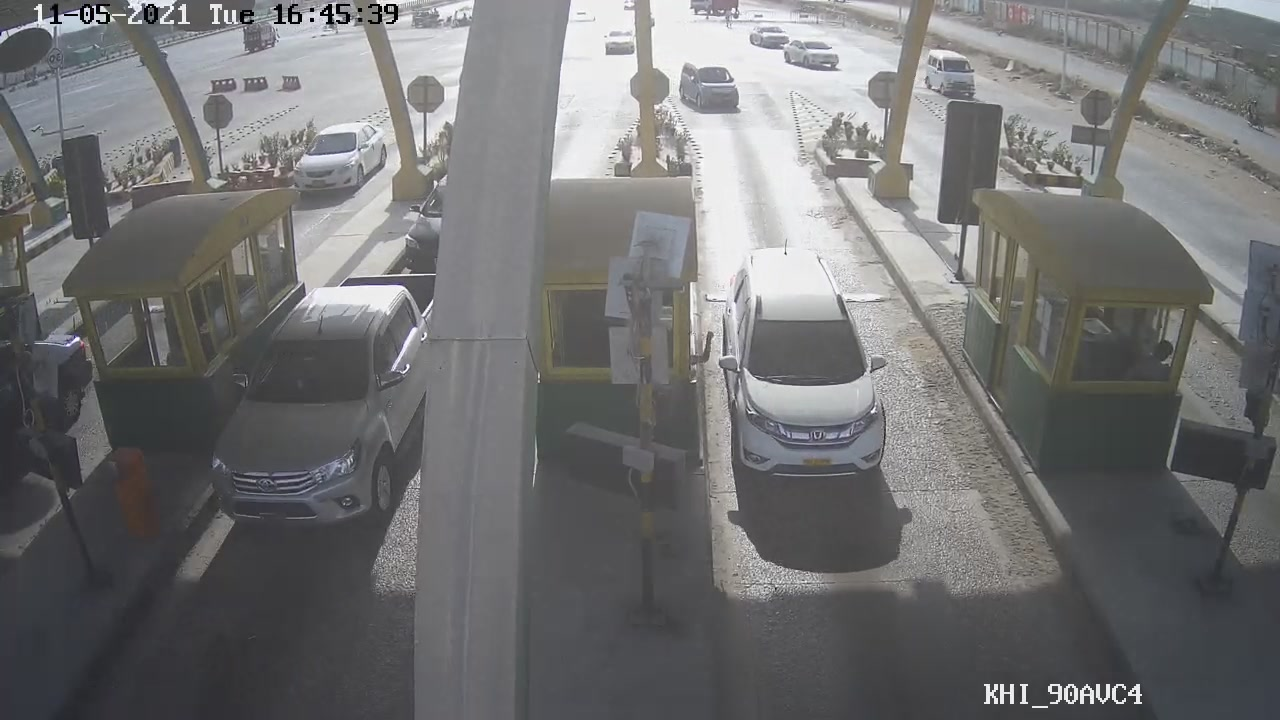F1: (710, 243, 895, 486)
